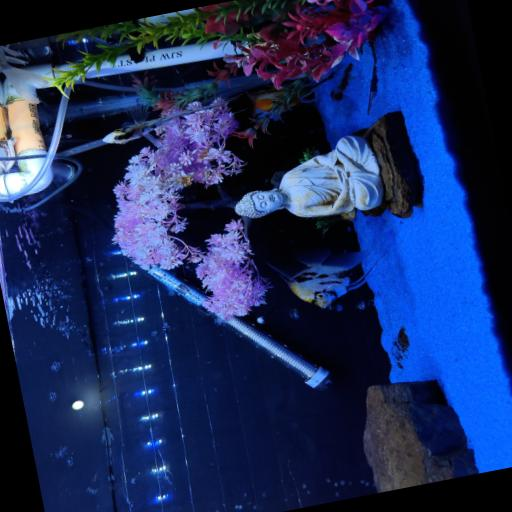Fish: (271, 244, 374, 307), (103, 98, 233, 143), (0, 45, 47, 103)
